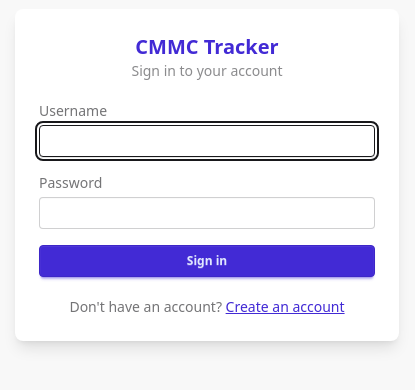
Scenario: LoginPage › displays error message on login failure
The width and height of the screenshot is (415, 390).
Type "baduser" into the field labelled "Username" at {"x": 207, "y": 141}, box [39, 125, 375, 157]
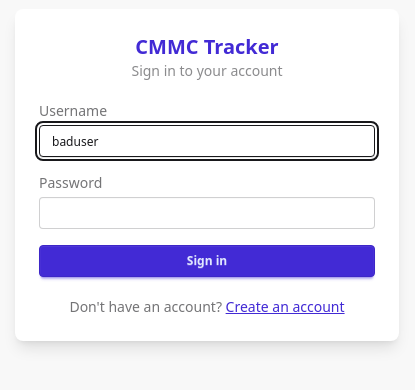
Type "badpass" into the password field labelled "Password" at {"x": 207, "y": 213}, box [39, 197, 375, 229]
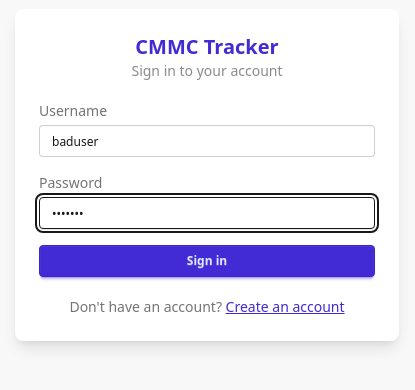
Click the button "Sign in" at {"x": 207, "y": 261}, box [39, 245, 375, 277]
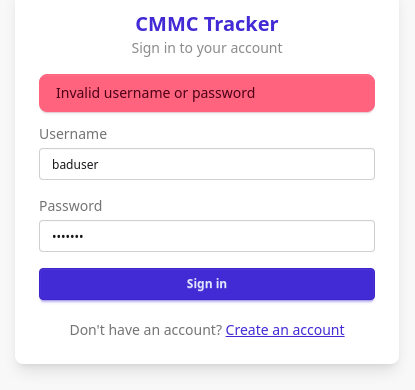
Expected: the text "Invalid username or password" is shown, [39, 74, 375, 112]
